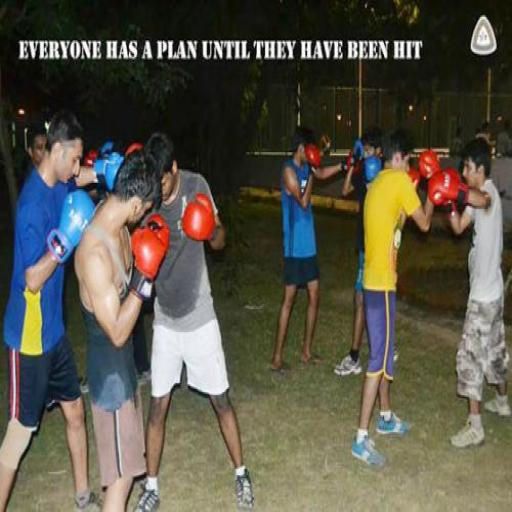boxing: (71, 116, 278, 439), (351, 120, 512, 403), (261, 94, 402, 336), (41, 112, 173, 340)
